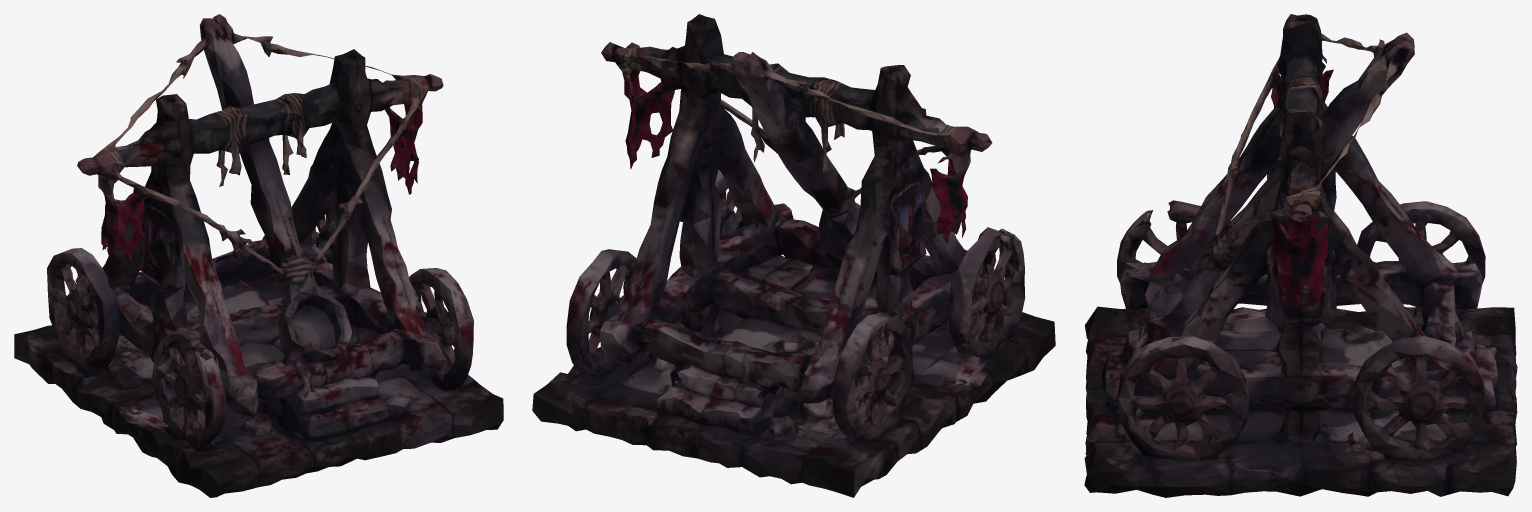
File: catapulte.glb
The picture shows the model from 3 angles, left to right: view 1: azimuth 30°, elevation 25°; view 2: azimuth 150°, elevation 25°; view 3: azimuth 270°, elevation 25°; orthographic projection. The views are drawn at different scales.
Parts seen in each view (by area): view 1: world; view 2: world; view 3: world.
Boxes of the visible parts, x1,y1,x2,y2 form: world: (14,14,503,497); world: (532,14,1055,497); world: (1084,14,1517,497).
Size of the model in its own units: 1 by 0.9236 by 0.9481.
Materials: 1 (1 with a texture image).
